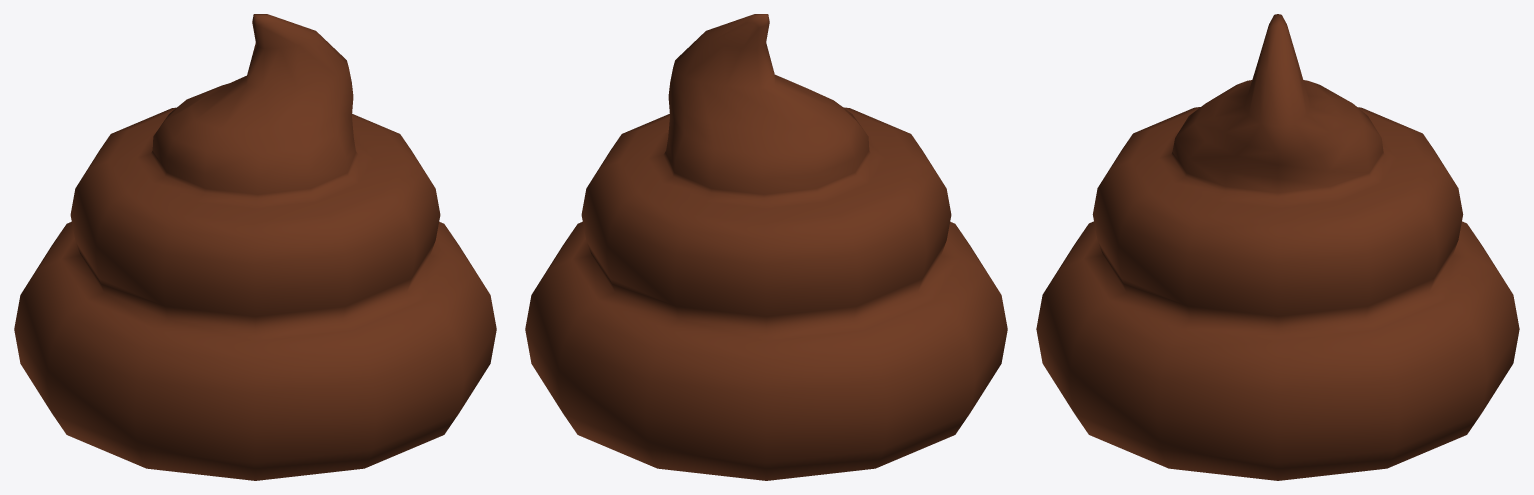
The model's file is Excremento_Meri.fbx.
3 views of the same model, side by side, from view 1: azimuth 30°, elevation 25°; view 2: azimuth 150°, elevation 25°; view 3: azimuth 270°, elevation 25° (orthographic).
Parts seen in each view (by area): view 1: Excremento; view 2: Excremento; view 3: Excremento.
Part boxes in pixels (left/top/right/bottom): Excremento: left=14, top=14, right=496, bottom=480; Excremento: left=525, top=14, right=1007, bottom=480; Excremento: left=1036, top=14, right=1519, bottom=480.
Size of the model in its own units: 17.75 by 15.18 by 17.75.
